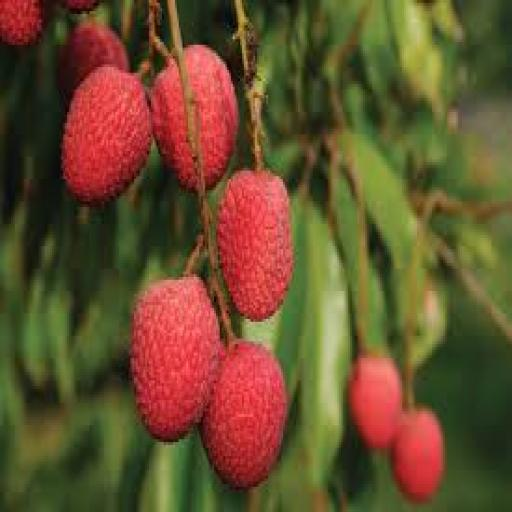lychee: (131, 277, 221, 442), (202, 342, 286, 489), (62, 68, 152, 204), (218, 171, 294, 318), (185, 45, 238, 187), (58, 23, 128, 100), (391, 409, 444, 503), (349, 356, 402, 450), (0, 0, 46, 47), (64, 0, 98, 13)
